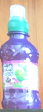blueberries: (1, 4, 42, 109)
